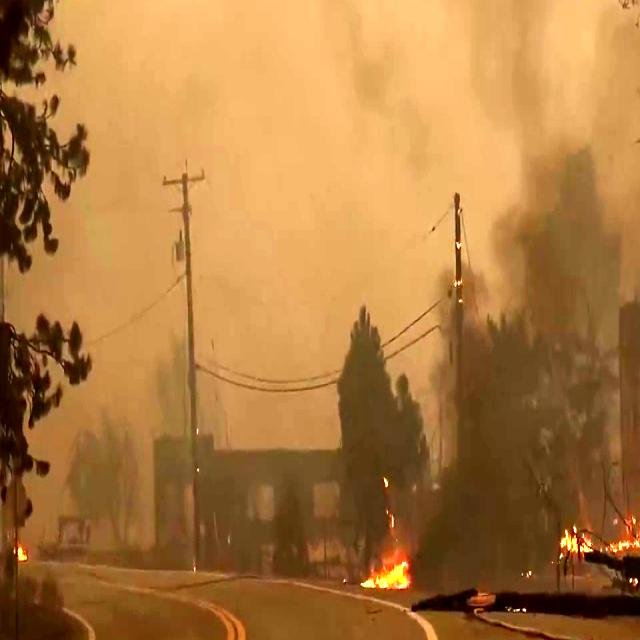smoke: (321, 0, 555, 193), (127, 0, 344, 122)
